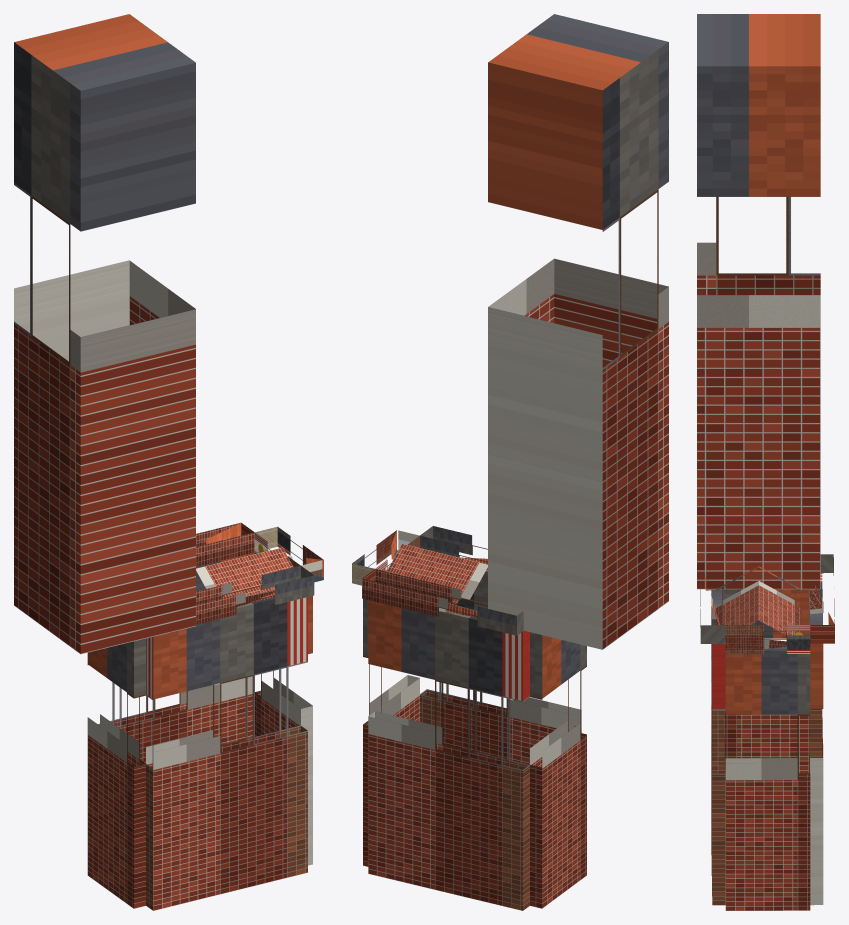
3 renders of one model, left to right at view 1: azimuth 30°, elevation 25°; view 2: azimuth 150°, elevation 25°; view 3: azimuth 270°, elevation 25°, orthographic. The views are drawn at different scales.
Visible parts, largest first — view 1: 1106967132__chimney_0_xb, 1106967132__wall_0_xb, 1106967132__wall_1_xb, 1106967132__wall_2_xb, 1106967132__wall_3_xb, 1106967132__cornice_0, 1106967132_roof_-1_xb, 1106967132__cornice_2, 1106967132__cornice_3; view 2: 1106967132__chimney_0_xb, 1106967132__wall_2_xb, 1106967132__wall_1_xb, 1106967132__wall_0_xb, 1106967132__cornice_2, 1106967132_roof_1_xb, 1106967132__wall_3_xb, 1106967132__cornice_0, 1106967132__cornice_3; view 3: 1106967132__chimney_0_xb, 1106967132__wall_3_xb, 1106967132__wall_1_xb, 1106967132__wall_0_xb, 1106967132__wall_2_xb, 1106967132__cornice_3, 1106967132_roof_1_xb, 1106967132_roof_-1_xb, 1106967132__cornice_2, 1106967132__cornice_0.
Part boxes in pixels (x1,y1,x2,y2): 1106967132__chimney_0_xb: (14, 14, 195, 654); 1106967132__wall_0_xb: (146, 597, 307, 910); 1106967132__wall_1_xb: (87, 638, 145, 908); 1106967132__wall_2_xb: (98, 552, 254, 763); 1106967132__wall_3_xb: (254, 549, 312, 865); 1106967132__cornice_0: (196, 565, 314, 624); 1106967132_roof_-1_xb: (196, 547, 293, 603); 1106967132__cornice_2: (196, 522, 254, 566); 1106967132__cornice_3: (254, 526, 323, 582); 1106967132__chimney_0_xb: (488, 14, 668, 649); 1106967132__wall_2_xb: (368, 600, 529, 910); 1106967132__wall_1_xb: (530, 632, 586, 908); 1106967132__wall_0_xb: (420, 571, 581, 764); 1106967132__cornice_2: (362, 569, 523, 635); 1106967132_roof_1_xb: (387, 543, 487, 604); 1106967132__wall_3_xb: (363, 566, 419, 866); 1106967132__cornice_0: (420, 526, 487, 571); 1106967132__cornice_3: (352, 530, 419, 585); 1106967132__chimney_0_xb: (697, 14, 820, 589); 1106967132__wall_3_xb: (725, 646, 810, 910); 1106967132__wall_1_xb: (724, 589, 808, 773); 1106967132__wall_0_xb: (711, 589, 725, 905); 1106967132__wall_2_xb: (809, 573, 823, 905); 1106967132__cornice_3: (725, 625, 810, 654); 1106967132_roof_1_xb: (759, 566, 801, 635); 1106967132_roof_-1_xb: (716, 566, 758, 626); 1106967132__cornice_2: (809, 554, 834, 643); 1106967132__cornice_0: (700, 575, 725, 643).
Bounding box in the file's own units: 0.3361 × 1.05 × 0.1672.
1 material, 1 textured.
